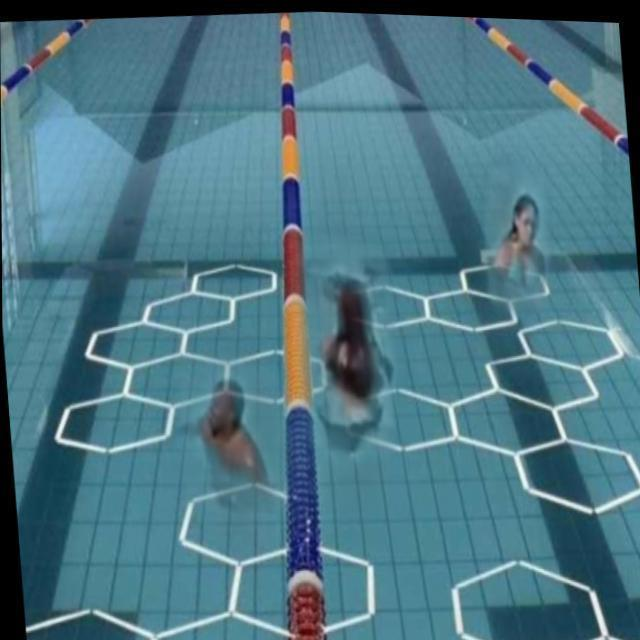swimming: (311, 263, 416, 458), (164, 350, 278, 490), (476, 186, 576, 303)
